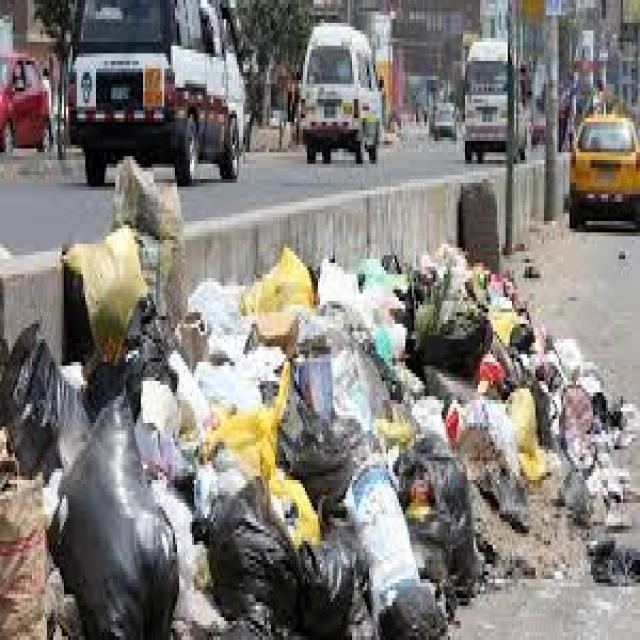garbage: (0, 201, 640, 640)
